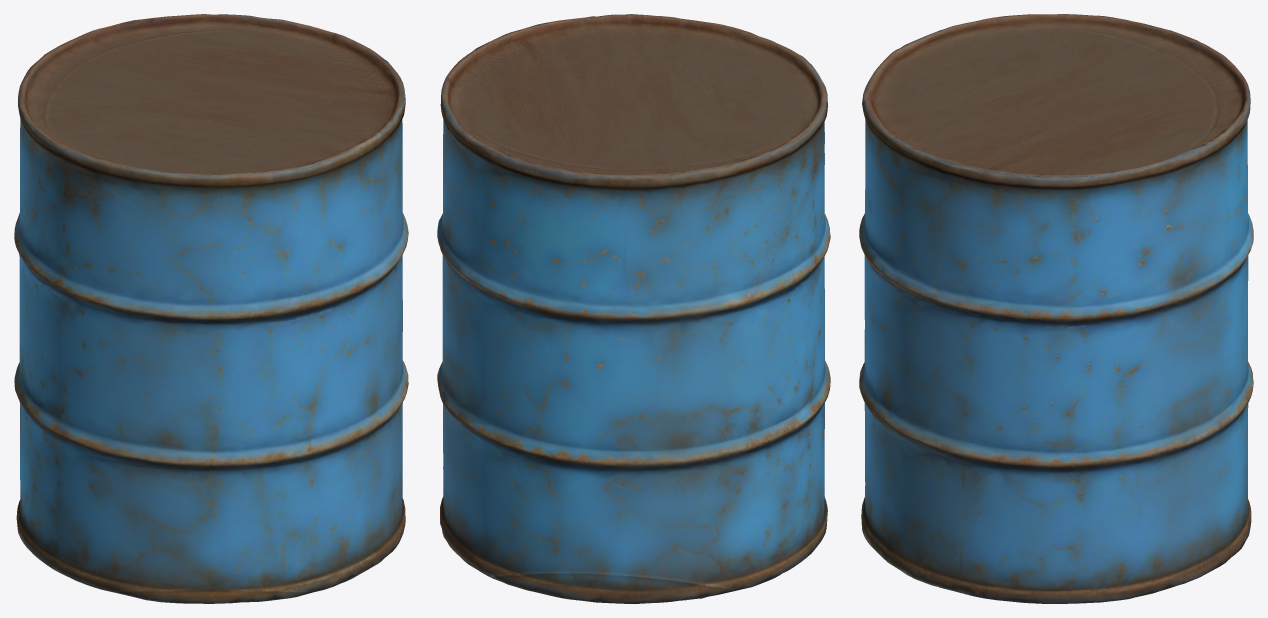
File: Barell.fbx
3 renders of one model, left to right at view 1: azimuth 30°, elevation 25°; view 2: azimuth 150°, elevation 25°; view 3: azimuth 270°, elevation 25°, orthographic.
Parts seen in each view (by area): view 1: file1; view 2: file1; view 3: file1.
Part boxes in pixels (<box>): file1: <box>14,14,408,603</box>; file1: <box>437,14,830,603</box>; file1: <box>859,14,1253,603</box>.
Bounding box in the file's own units: 167 × 202 × 167.
Materials: 1 (1 with a texture image).
